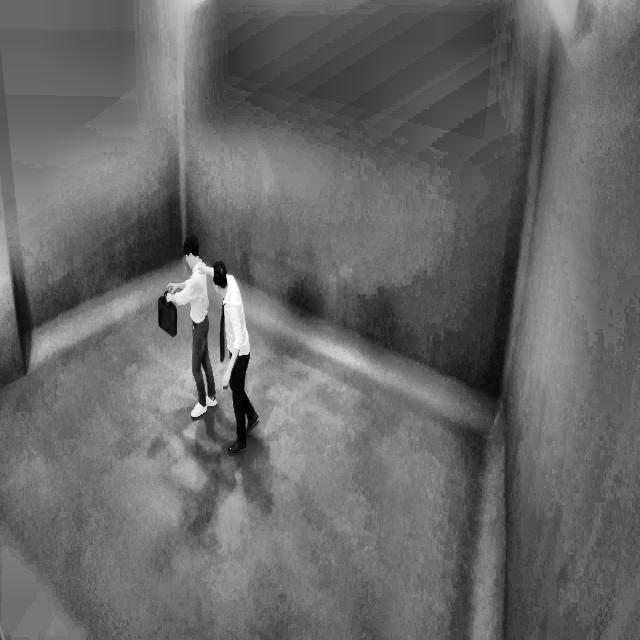assult: (158, 231, 264, 459)
